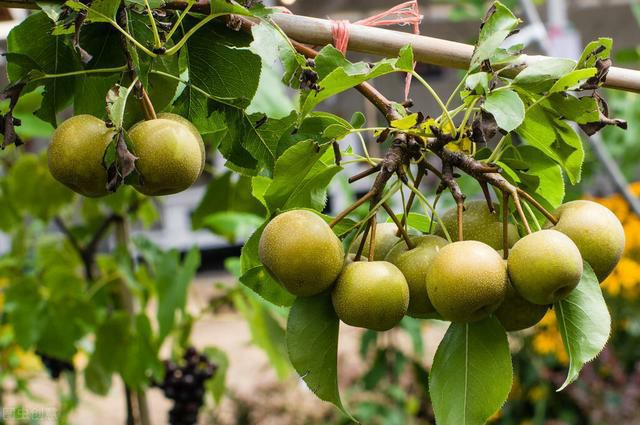pear: (257, 205, 340, 295), (540, 198, 625, 285), (431, 201, 516, 288), (46, 114, 126, 199), (123, 110, 203, 195), (424, 240, 504, 321), (382, 231, 449, 316), (506, 230, 583, 302), (335, 260, 409, 329), (348, 222, 422, 264)
